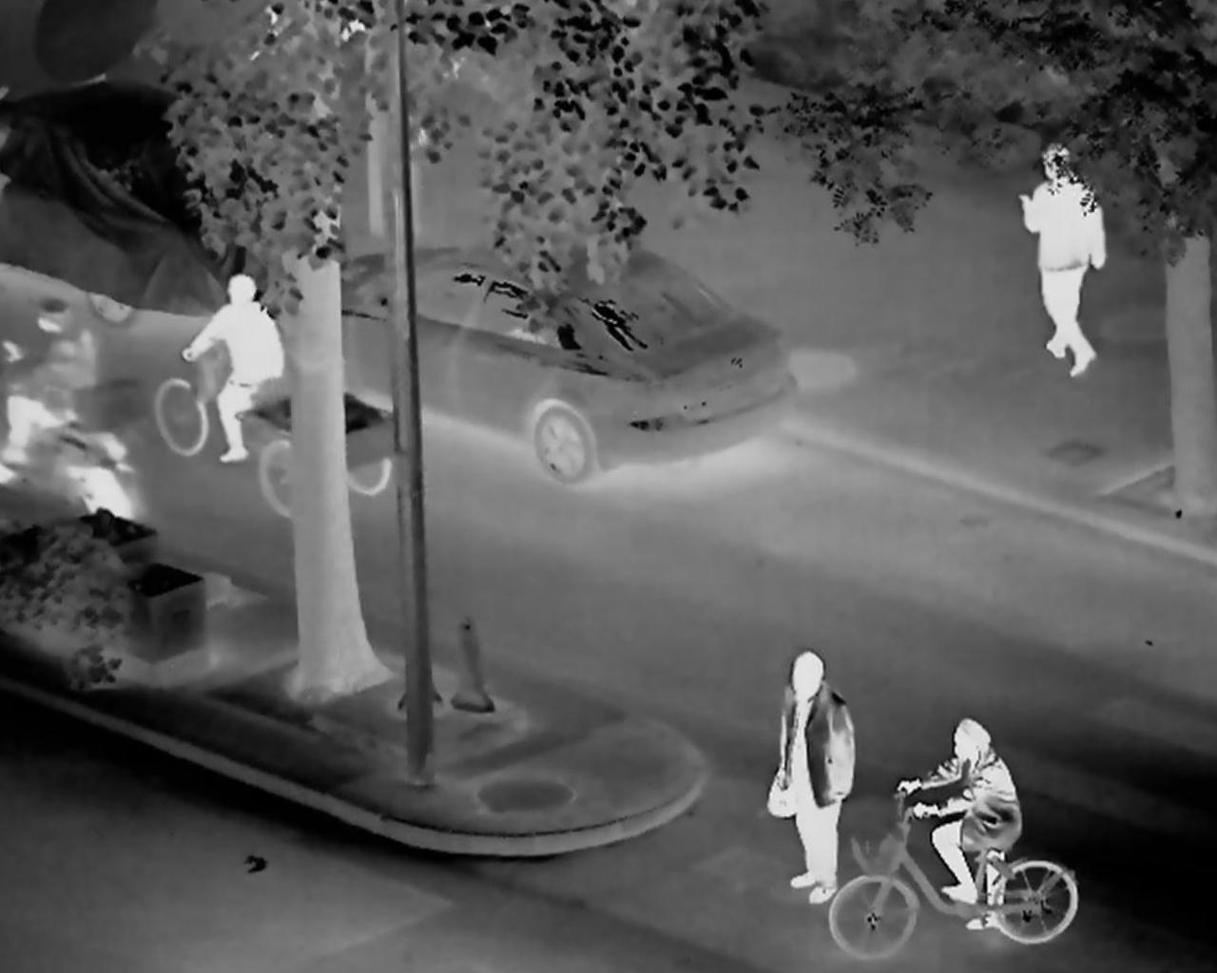person: (898, 716, 1022, 927), (766, 649, 855, 906), (180, 272, 282, 463), (1019, 143, 1102, 377), (4, 295, 96, 482)
